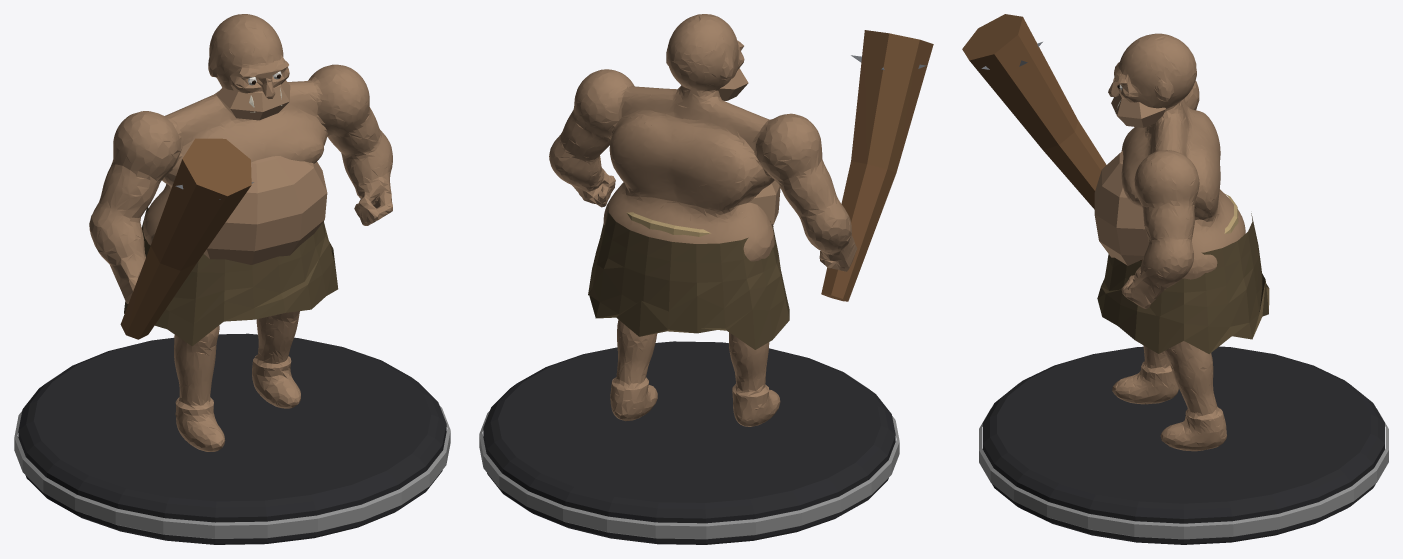
The model's file is ogre.glb.
3 views of the same model, side by side, from view 1: azimuth 30°, elevation 25°; view 2: azimuth 150°, elevation 25°; view 3: azimuth 270°, elevation 25° (orthographic). The views are drawn at different scales.
Parts seen in each view (by area): view 1: ogre; view 2: ogre; view 3: ogre.
Part boxes in pixels (box(x1,y1,x2,y2)): ogre: box(14, 14, 450, 544); ogre: box(479, 14, 933, 544); ogre: box(962, 14, 1388, 544).
Bounding box in the file's own units: 0.856 × 0.9716 × 0.8845.
